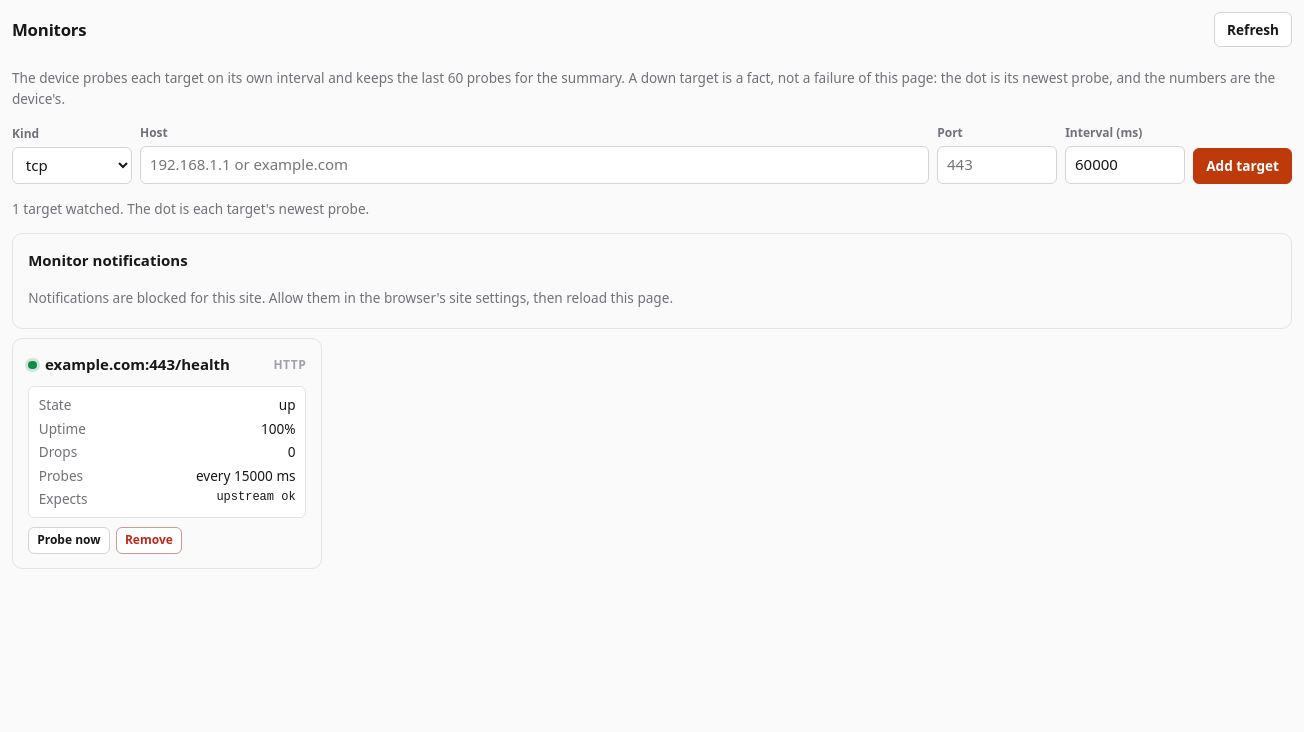
MonitorsPage › probes the target and then reads its summary back
The width and height of the screenshot is (1304, 732).
Expected: the text "up" is shown, x1=279 y1=394 x2=296 y2=416
Click the button "Probe now".
click(69, 541)  # box x1=28 y1=527 x2=110 y2=554
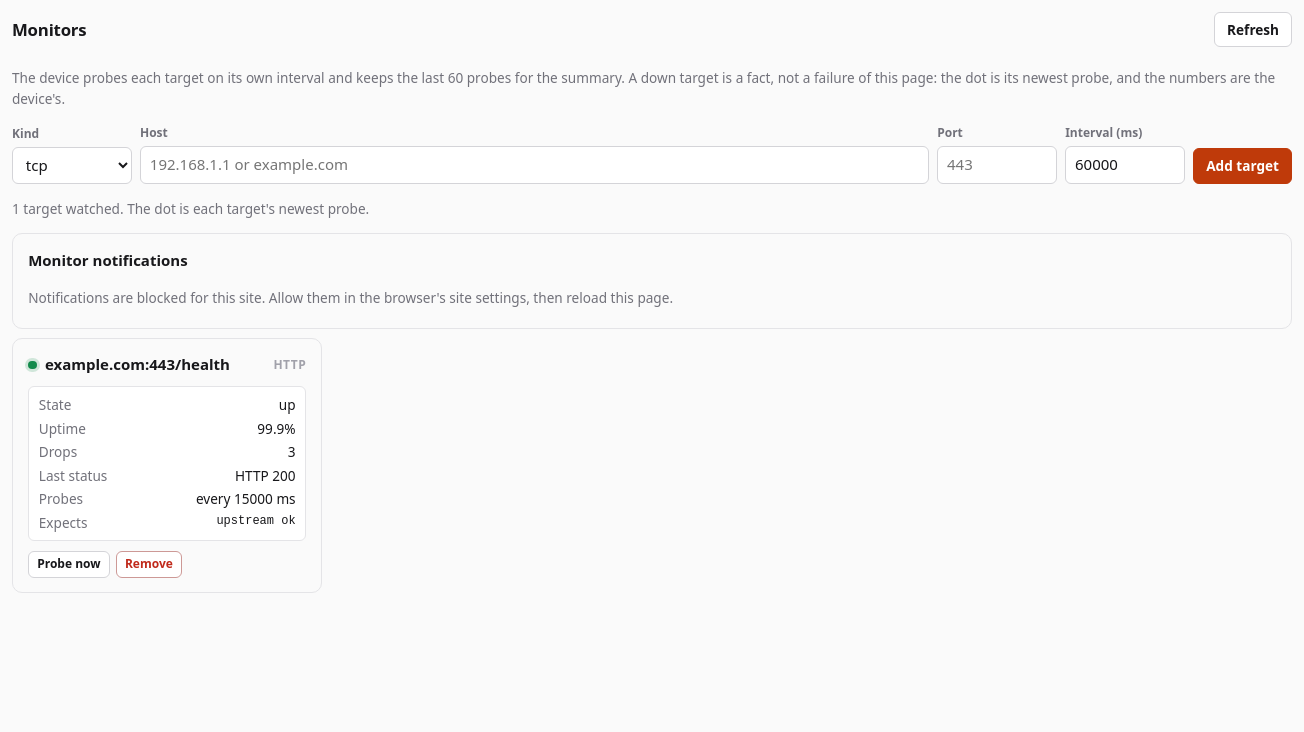
Result: the text "99.9%" is shown at x1=257 y1=418 x2=296 y2=439
Result: the text "3" is shown at x1=288 y1=441 x2=296 y2=462
Result: the text "HTTP 200" is shown at x1=235 y1=465 x2=296 y2=486
